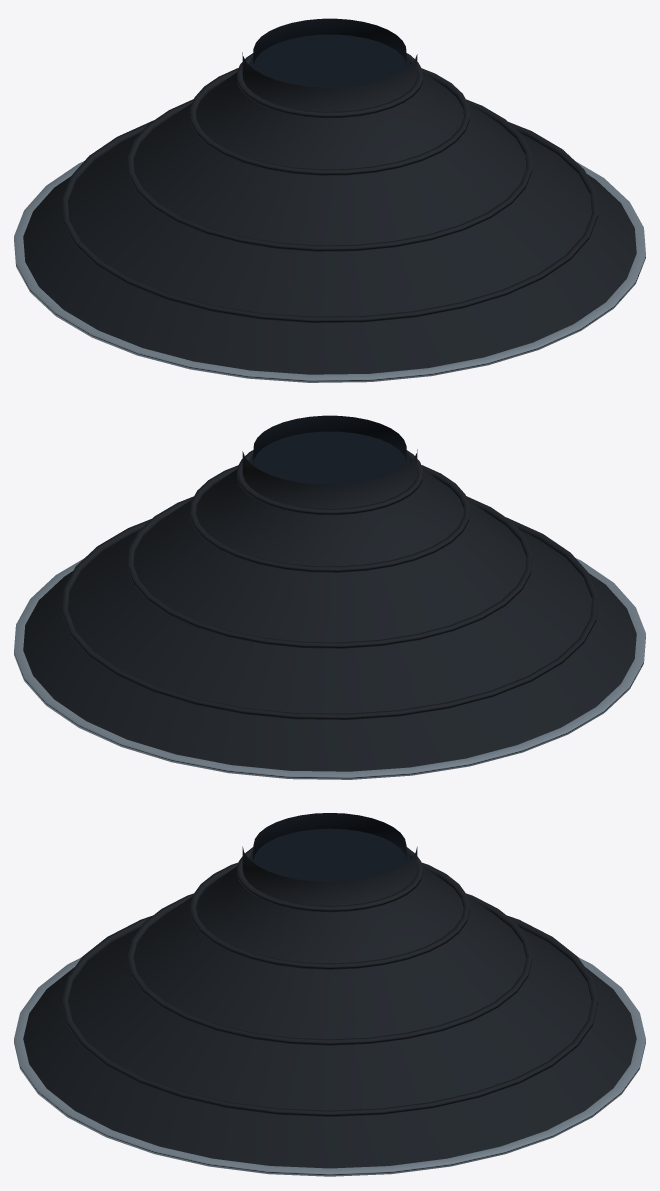
The model's file is titan_srb_l.nozzle.glb.
3 views of the same model, one above another, from view 1: azimuth 30°, elevation 25°; view 2: azimuth 150°, elevation 25°; view 3: azimuth 270°, elevation 25° (orthographic).
Parts seen in each view (by area): view 1: titan_srb_l.nozzle.bell.mesh_Carbon_composite, titan_srb_l.nozzle.bell.mesh_Shadowed_interior, titan_srb_l.nozzle.bell.mesh_Machined_steel; view 2: titan_srb_l.nozzle.bell.mesh_Carbon_composite, titan_srb_l.nozzle.bell.mesh_Shadowed_interior, titan_srb_l.nozzle.bell.mesh_Machined_steel; view 3: titan_srb_l.nozzle.bell.mesh_Carbon_composite, titan_srb_l.nozzle.bell.mesh_Shadowed_interior, titan_srb_l.nozzle.bell.mesh_Machined_steel.
Boxes of the visible parts, x1=… form: titan_srb_l.nozzle.bell.mesh_Carbon_composite: x1=23, y1=52, x2=636, y2=374; titan_srb_l.nozzle.bell.mesh_Shadowed_interior: x1=249, y1=18, x2=410, y2=87; titan_srb_l.nozzle.bell.mesh_Machined_steel: x1=14, y1=161, x2=645, y2=382; titan_srb_l.nozzle.bell.mesh_Carbon_composite: x1=23, y1=449, x2=636, y2=771; titan_srb_l.nozzle.bell.mesh_Shadowed_interior: x1=249, y1=415, x2=410, y2=484; titan_srb_l.nozzle.bell.mesh_Machined_steel: x1=14, y1=558, x2=645, y2=779; titan_srb_l.nozzle.bell.mesh_Carbon_composite: x1=23, y1=846, x2=636, y2=1168; titan_srb_l.nozzle.bell.mesh_Shadowed_interior: x1=249, y1=813, x2=410, y2=881; titan_srb_l.nozzle.bell.mesh_Machined_steel: x1=14, y1=957, x2=645, y2=1176.
Size of the model in its own units: 1.94 by 0.67 by 1.94.
